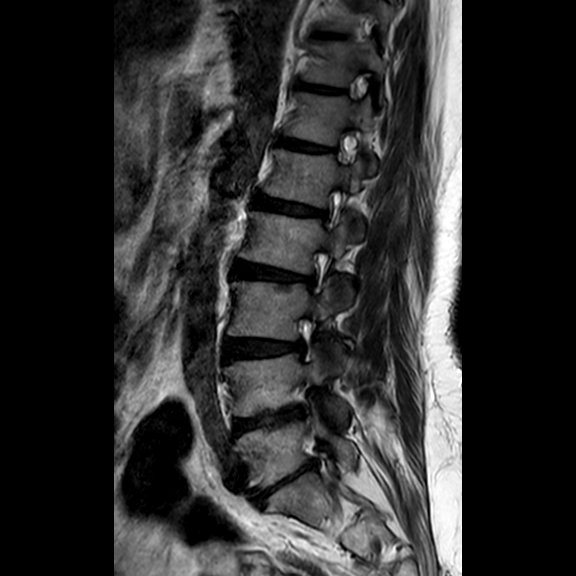LFS0: (279, 308, 327, 368), (293, 242, 338, 304), (309, 179, 350, 238)
